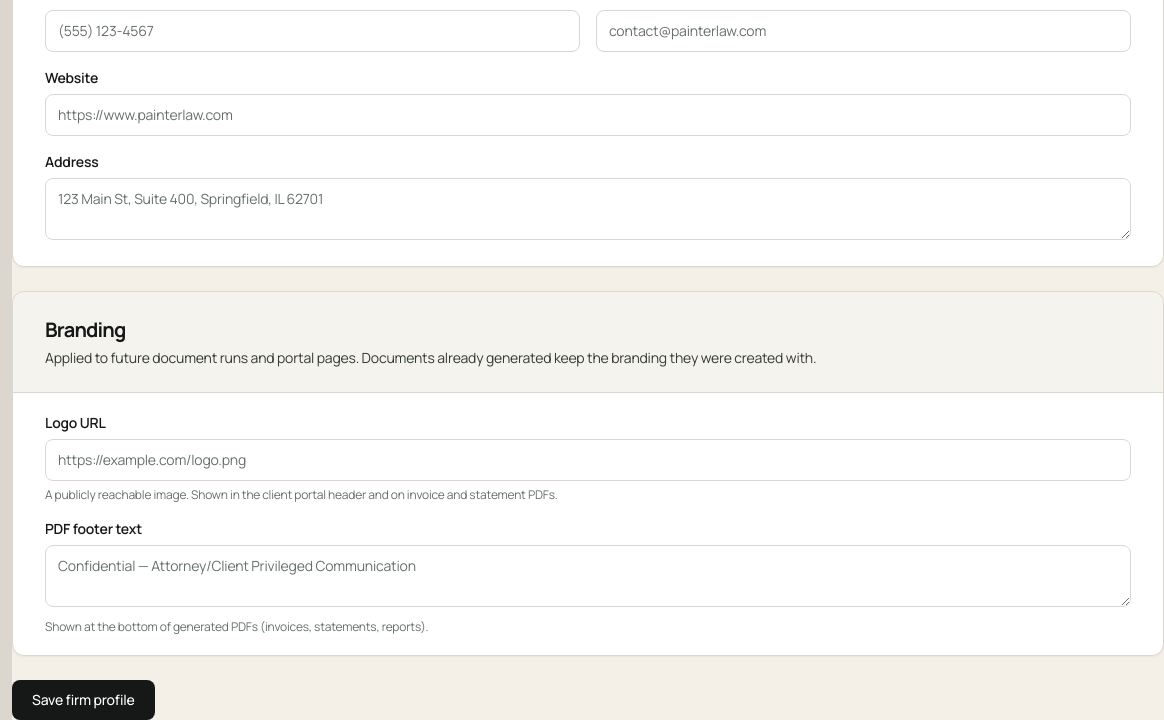
surfaces an error the API returns
(page scrolled)
Click the button "Save firm profile": coordinates (83, 700) [12,680,155,719]
(page scrolled)
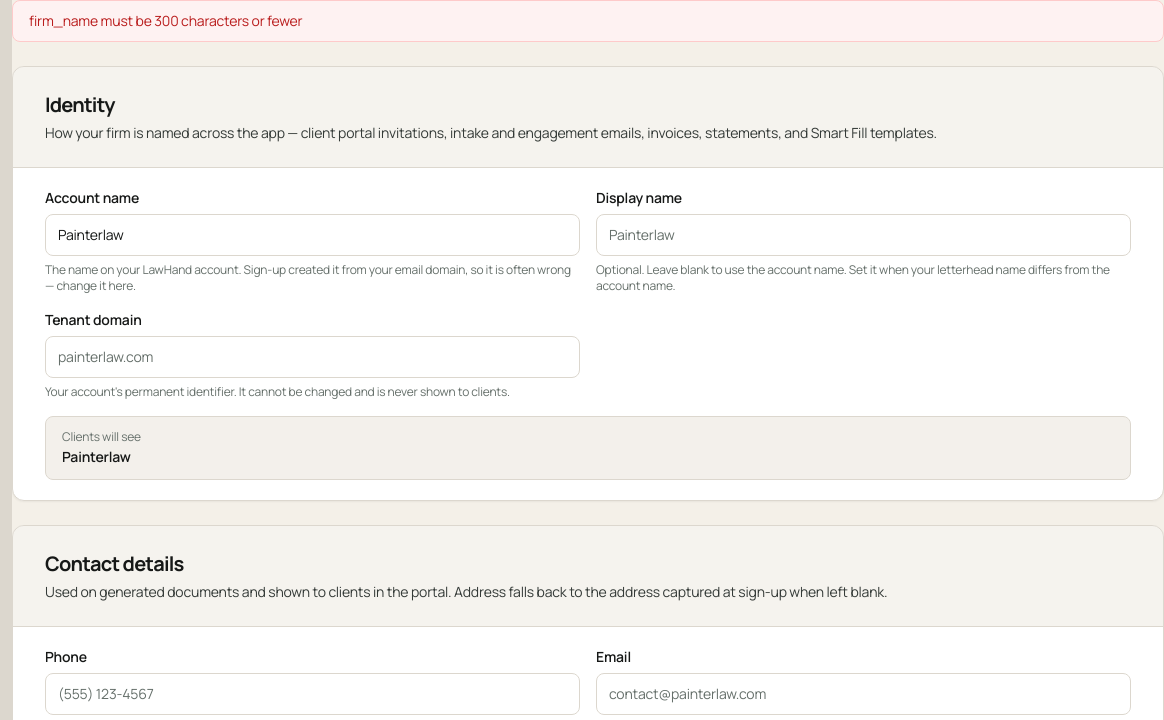
Result: the text "firm_name must be 300 characters or fewer" is shown at [12,0,1163,42]
